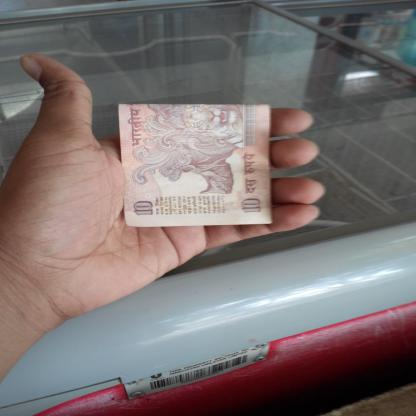Old10Back: (118, 103, 274, 229)
